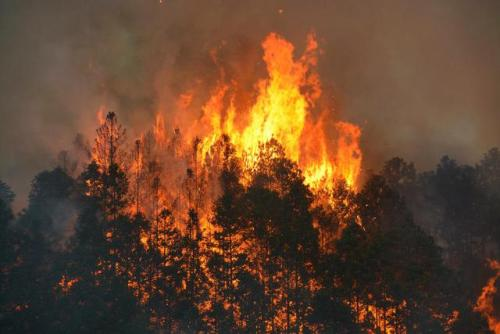fire: (221, 63, 356, 153)
